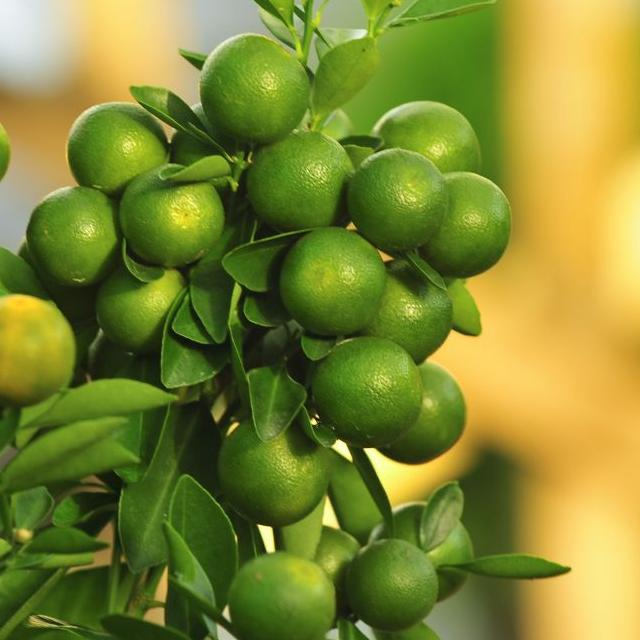lime: (218, 414, 328, 532), (200, 36, 311, 152), (279, 229, 392, 342), (117, 164, 231, 272), (308, 341, 424, 446), (246, 129, 355, 235), (418, 173, 514, 284), (23, 185, 121, 292), (66, 102, 173, 198), (344, 538, 450, 633), (349, 154, 444, 255), (230, 557, 339, 640), (0, 296, 79, 409), (376, 102, 492, 177), (400, 362, 472, 467)
